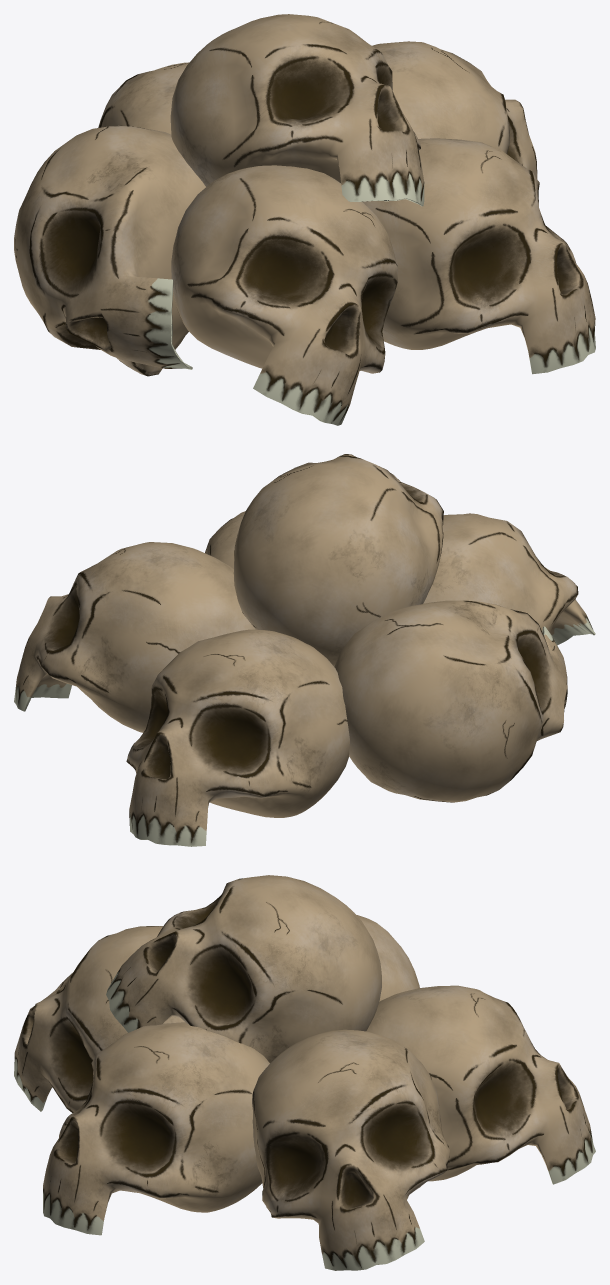
File: SkullPileSmall.fbx
The picture shows the model from 3 angles, top to bottom: view 1: azimuth 30°, elevation 25°; view 2: azimuth 150°, elevation 25°; view 3: azimuth 270°, elevation 25°; orthographic projection. The views are drawn at different scales.
Visible parts, largest first — view 1: Skull_PileSmall1; view 2: Skull_PileSmall1; view 3: Skull_PileSmall1.
Part boxes in pixels (bbox=[...]): Skull_PileSmall1: bbox=[14, 14, 595, 425]; Skull_PileSmall1: bbox=[14, 454, 595, 846]; Skull_PileSmall1: bbox=[14, 875, 595, 1270].
Size of the model in its own units: 5.15 by 2.9 by 5.42.
